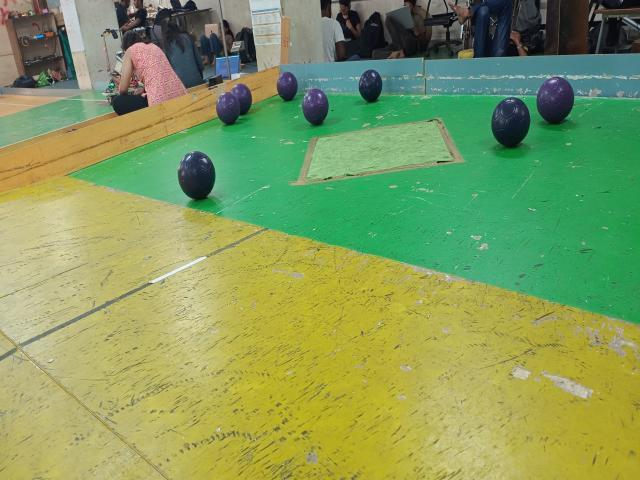jambhalya: (536, 77, 574, 123), (302, 88, 329, 125), (216, 92, 240, 125), (231, 83, 252, 115), (276, 72, 298, 100)
kaalyya: (491, 97, 530, 147), (178, 152, 215, 200), (359, 70, 382, 102)
